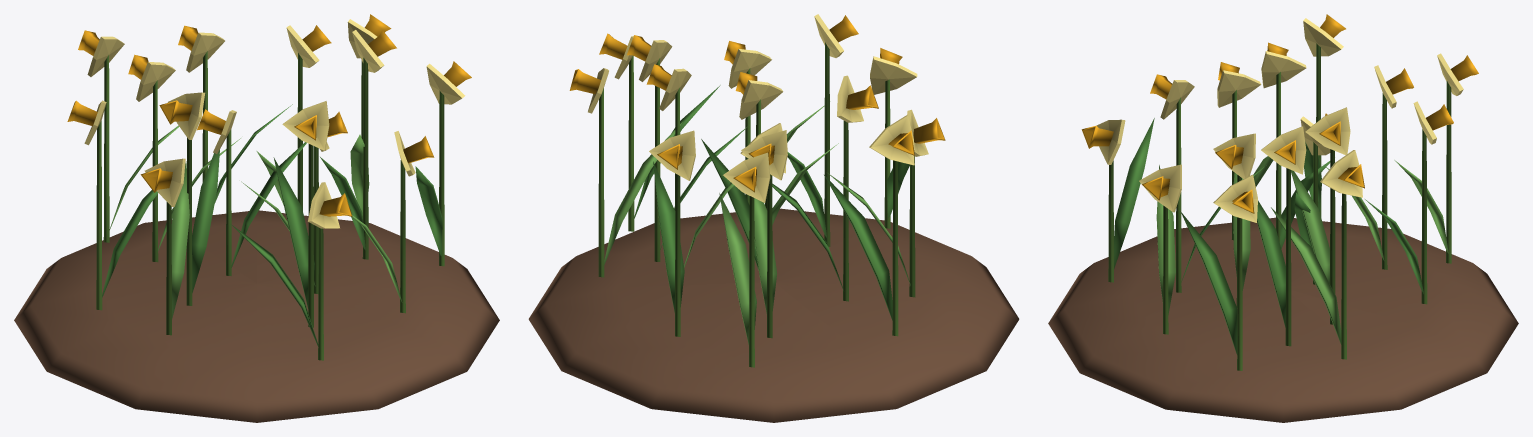
The model's file is daffodils.far.glb.
The picture shows the model from 3 angles, left to right: view 1: azimuth 30°, elevation 25°; view 2: azimuth 150°, elevation 25°; view 3: azimuth 270°, elevation 25°; orthographic projection. The views are drawn at different scales.
Parts seen in each view (by area): view 1: daffodils; view 2: daffodils; view 3: daffodils.
Part boxes in pixels (x1,y1,x2,y2): daffodils: [14, 14, 499, 422]; daffodils: [528, 14, 1019, 422]; daffodils: [1048, 14, 1518, 422].
Size of the model in its own units: 0.84 by 0.4912 by 0.84.
